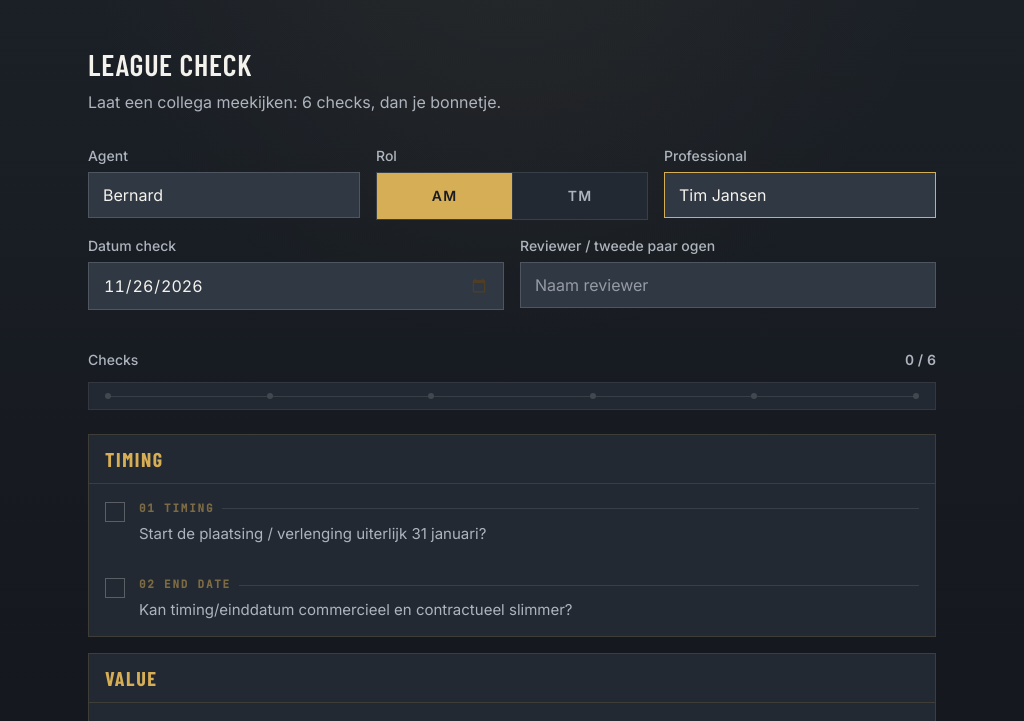
Scenario: LeagueCheckPage — the receipt button is never gated on checked count › 5/6: GENERATE RECEIPT is enabled and clickable, receipt shows MISSION OPEN 5/6 with 1 open check (VALUE)
Earlier steps of the test are not shown.
Click the checkbox with id "timing" at (296, 522), box [105,501,486,543]
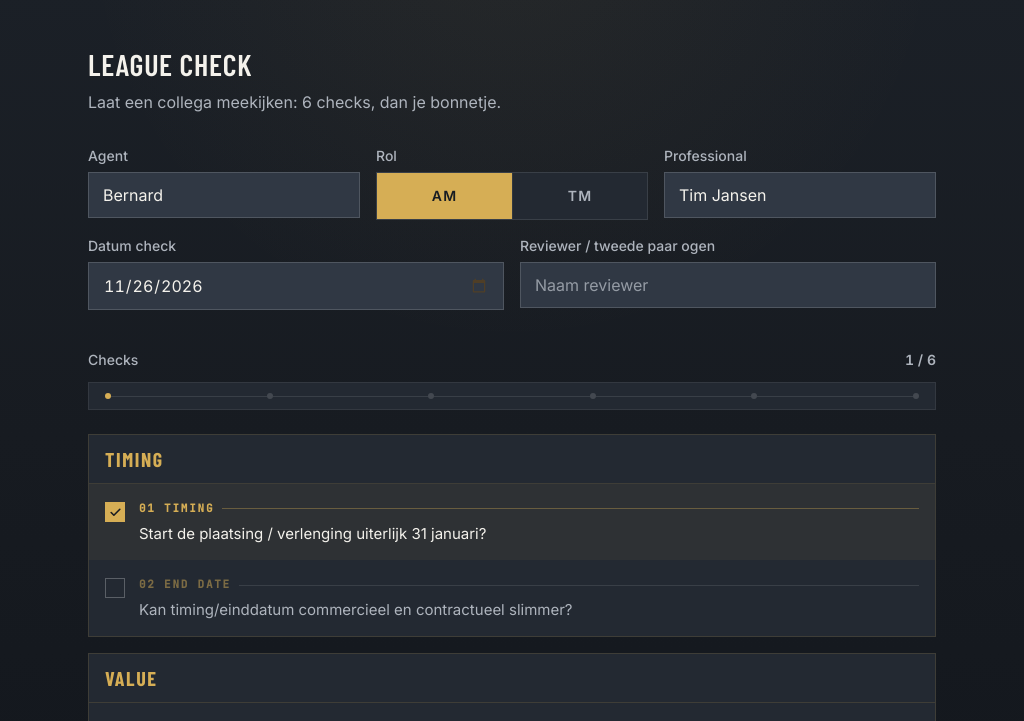
Click the checkbox with id "end-date" at (339, 598), box [105,577,572,619]
(page scrolled)
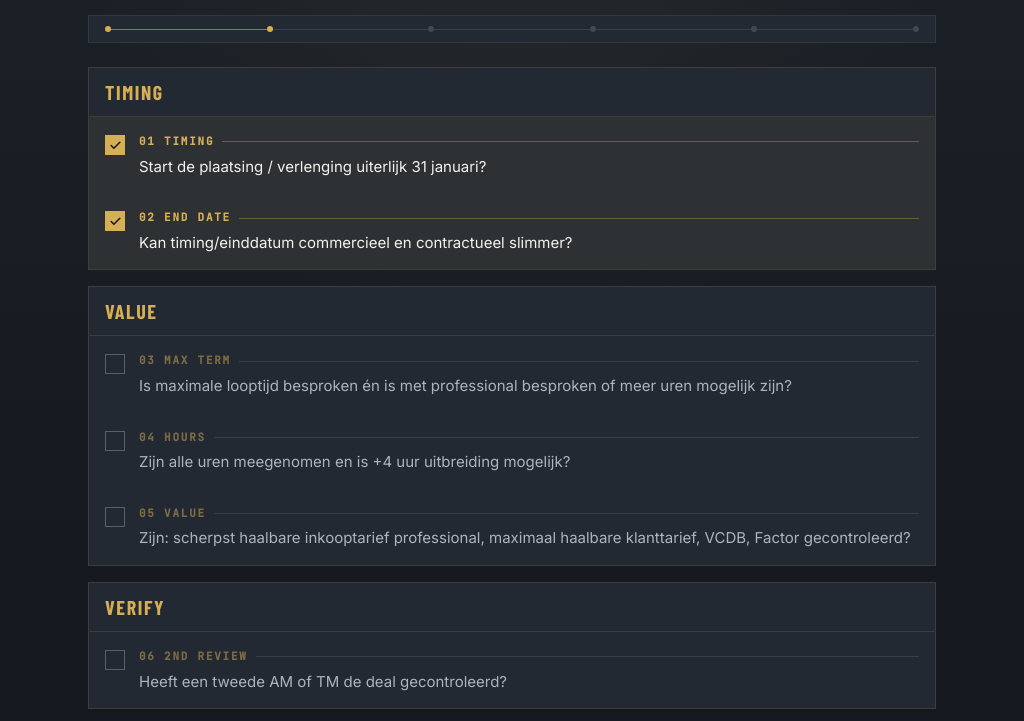
Click the checkbox with id "max-term" at (448, 374), box [105,353,792,395]
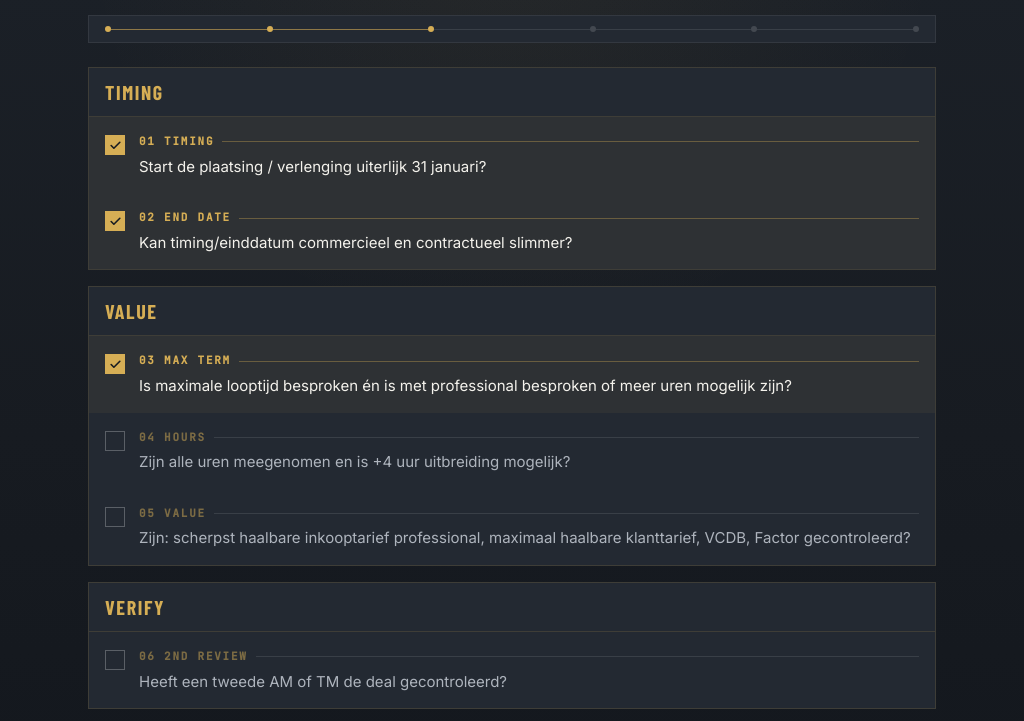
Click the checkbox with id "hours" at (338, 450), box [105,430,570,471]
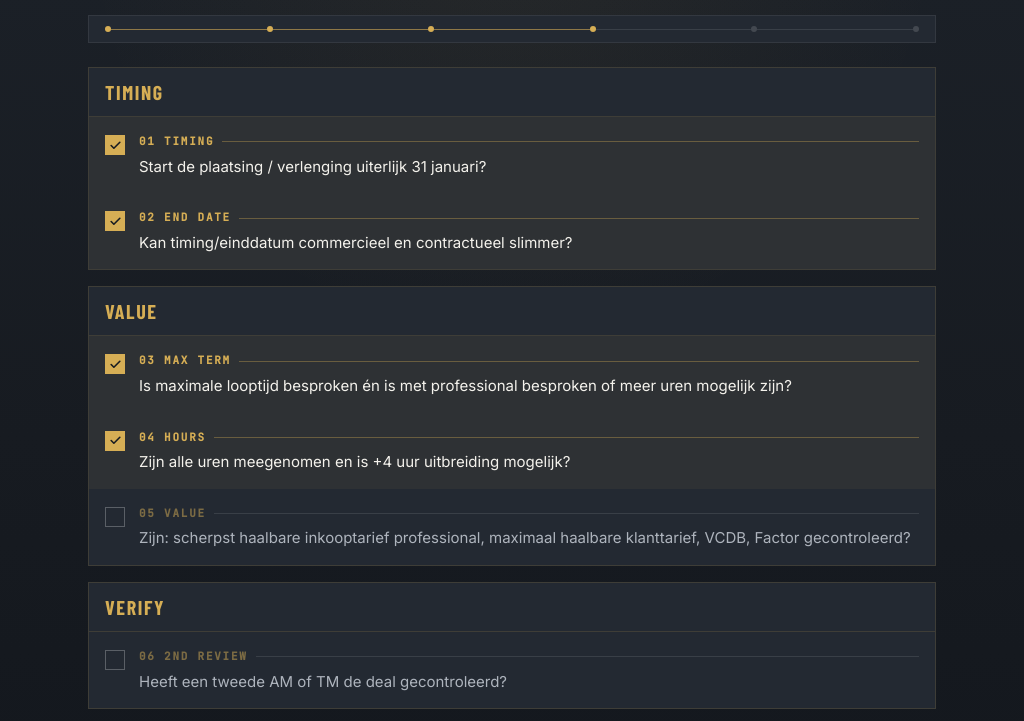
Click the checkbox with id "second-review" at (306, 670), box [105,649,507,691]
(page scrolled)
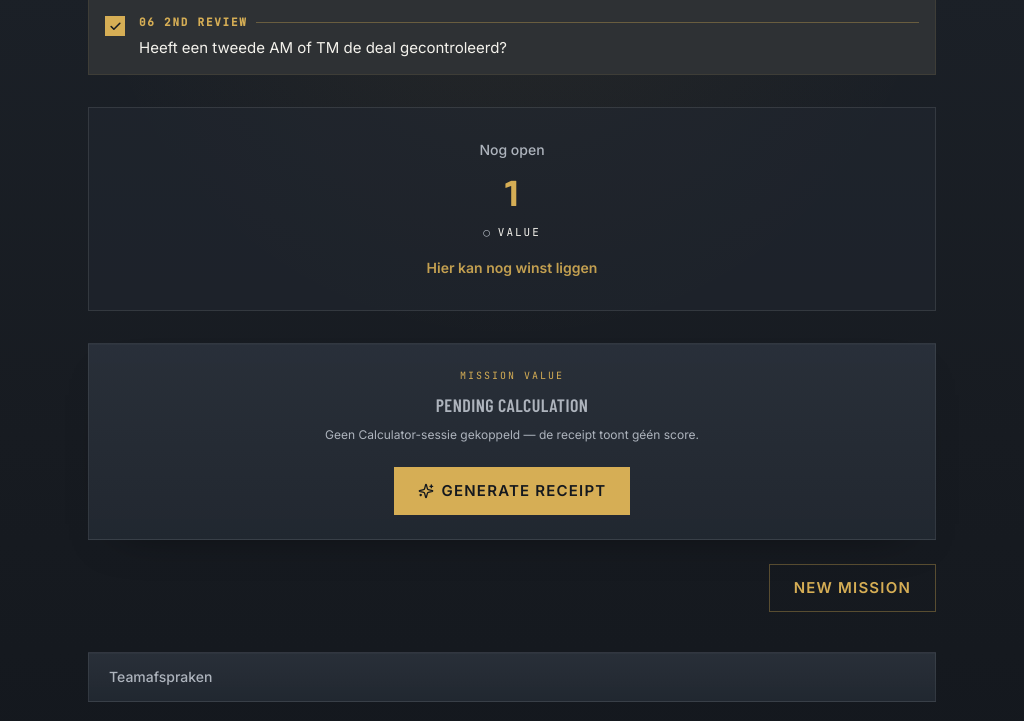
Click the button "Generate Receipt" at (512, 491), box [394,467,630,515]
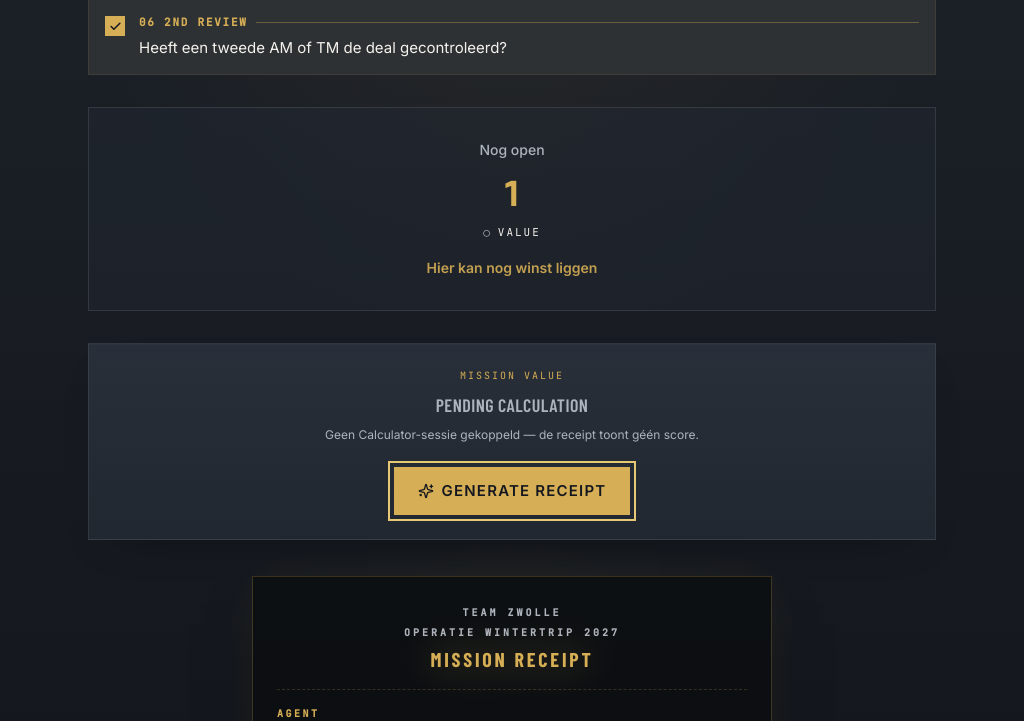
Expected: the text "VALUE" is shown, [498,225,541,239]
Expected: the text "Mission Receipt" is shown, [430,647,594,671]
